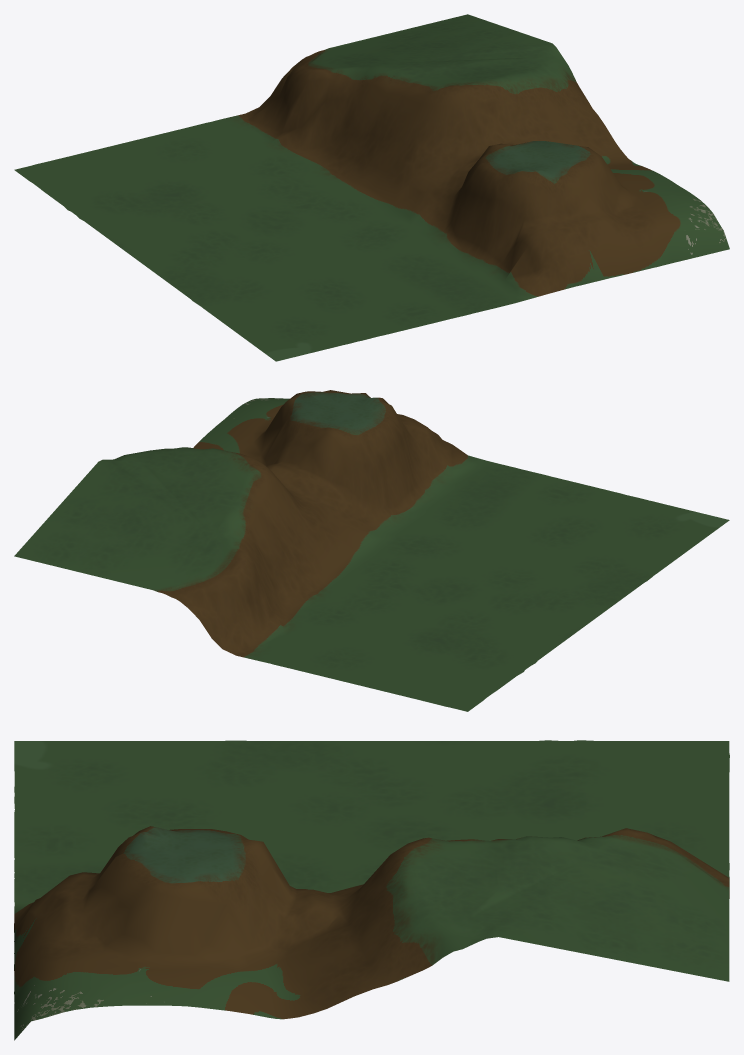
The model's file is CerrosNuevos.fbx.
3 views of the same model, one above another, from view 1: azimuth 30°, elevation 25°; view 2: azimuth 150°, elevation 25°; view 3: azimuth 270°, elevation 25° (orthographic). The views are drawn at different scales.
Visible parts, largest first — view 1: Plane.001; view 2: Plane.001; view 3: Plane.001.
Part boxes in pixels (bbox=[...]): Plane.001: bbox=[14, 14, 729, 361]; Plane.001: bbox=[14, 390, 729, 711]; Plane.001: bbox=[14, 740, 729, 1040].
Bounding box in the file's own units: 21032 × 3831 × 20917.
1 material, 1 textured.
